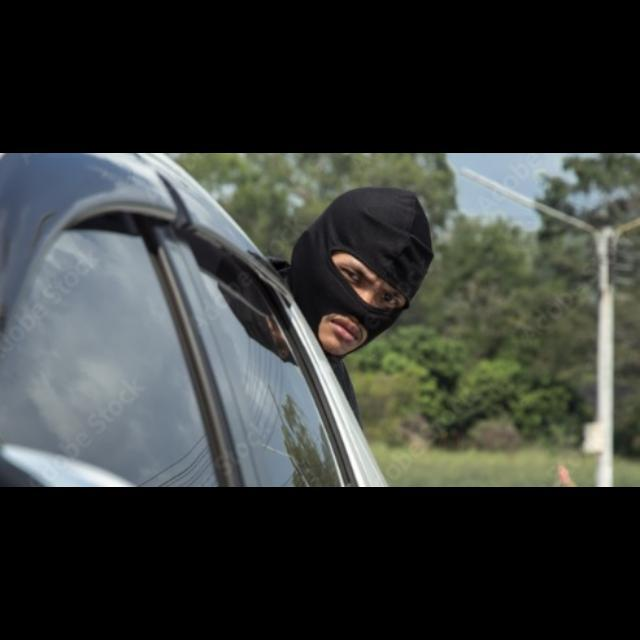criminal: (267, 187, 435, 422)
